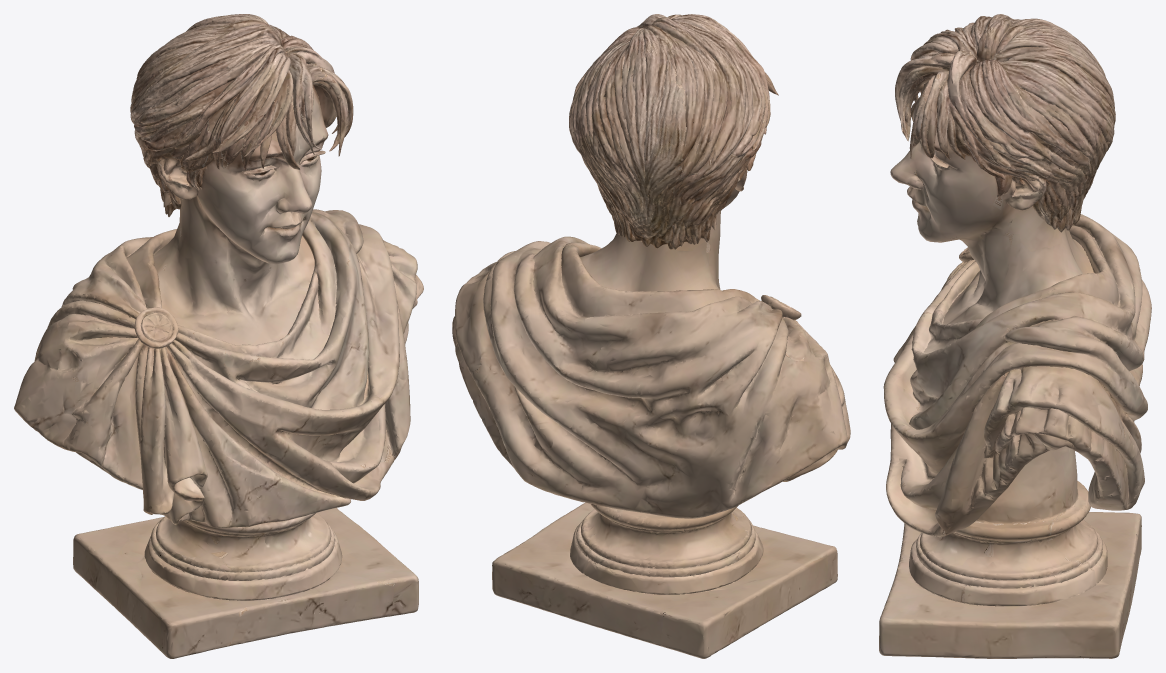
3 renders of one model, left to right at view 1: azimuth 30°, elevation 25°; view 2: azimuth 150°, elevation 25°; view 3: azimuth 270°, elevation 25°, orthographic. The views are drawn at different scales.
Parts seen in each view (by area): view 1: model; view 2: model; view 3: model.
Part boxes in pixels (x1,y1,x2,y2): model: (14,14,423,658); model: (452,14,850,658); model: (879,14,1151,658).
Bounding box in the file's own units: 1.36 × 1.9 × 0.8109.
1 material, 1 textured.
